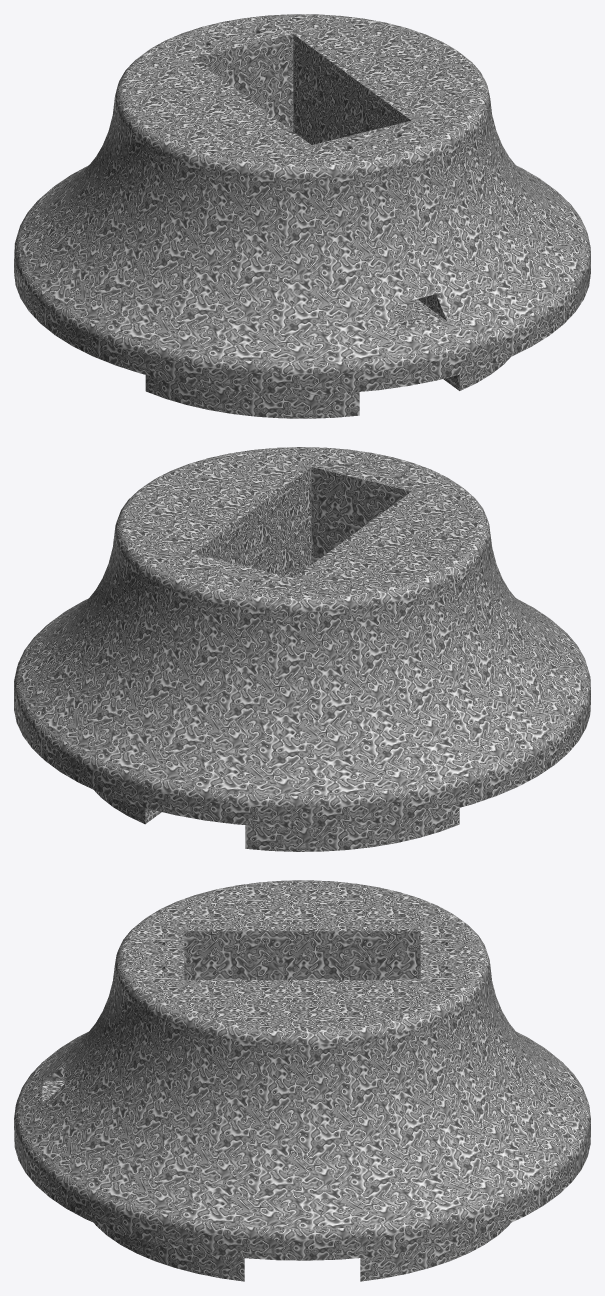
File: Pieza3.glb
3 views of the same model, one above another, from view 1: azimuth 30°, elevation 25°; view 2: azimuth 150°, elevation 25°; view 3: azimuth 270°, elevation 25° (orthographic).
Visible parts, largest first — view 1: Sólido1; view 2: Sólido1; view 3: Sólido1.
Boxes of the visible parts, x1=… form: Sólido1: x1=14, y1=14, x2=590, y2=418; Sólido1: x1=14, y1=447, x2=590, y2=851; Sólido1: x1=14, y1=880, x2=590, y2=1281.
Bounding box in the file's own units: 0.1 × 0.045 × 0.1.
1 material, 1 textured.
